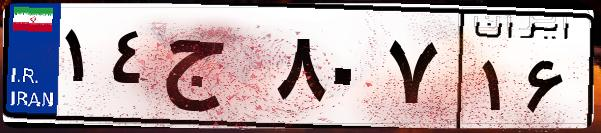0: (330, 28, 385, 110)
1: (57, 26, 110, 100), (475, 38, 525, 113)
4: (110, 28, 158, 98)
6: (525, 38, 570, 115)
7: (385, 28, 445, 110)
8: (270, 28, 330, 110)
ج: (158, 20, 270, 120)
